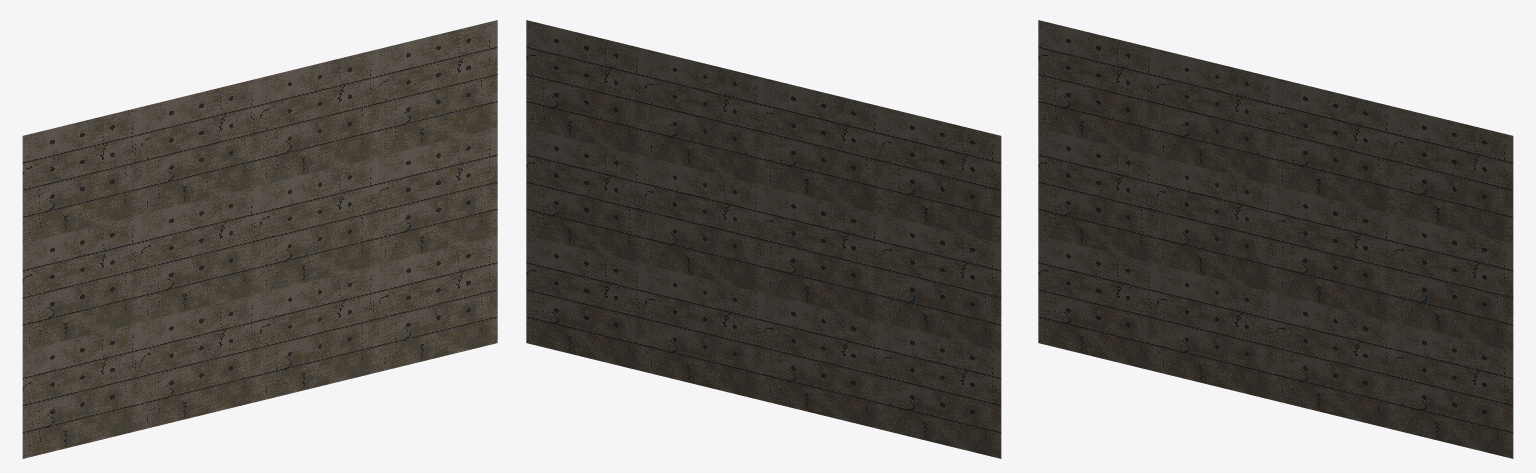
The model's file is SM_Env_WallConcrete_01.glb.
3 views of the same model, side by side, from view 1: azimuth 30°, elevation 25°; view 2: azimuth 150°, elevation 25°; view 3: azimuth 330°, elevation 25° (orthographic).
Parts seen in each view (by area): view 1: SM_Env_WallConcrete_01; view 2: SM_Env_WallConcrete_01; view 3: SM_Env_WallConcrete_01.
Boxes of the visible parts, x1=… form: SM_Env_WallConcrete_01: x1=22, y1=20, x2=497, y2=458; SM_Env_WallConcrete_01: x1=526, y1=20, x2=1001, y2=458; SM_Env_WallConcrete_01: x1=1038, y1=20, x2=1513, y2=458.
Bounding box in the file's own units: 4 × 2.6 × 0.12.
Materials: 1 (1 with a texture image).
